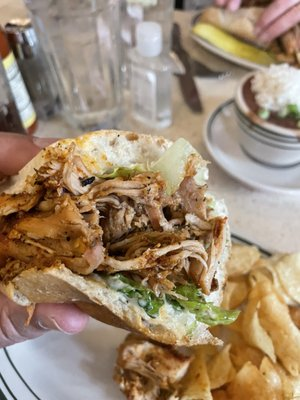pizza: (31, 0, 126, 132)
soup: (0, 130, 242, 361)
sushi: (232, 63, 300, 168)
